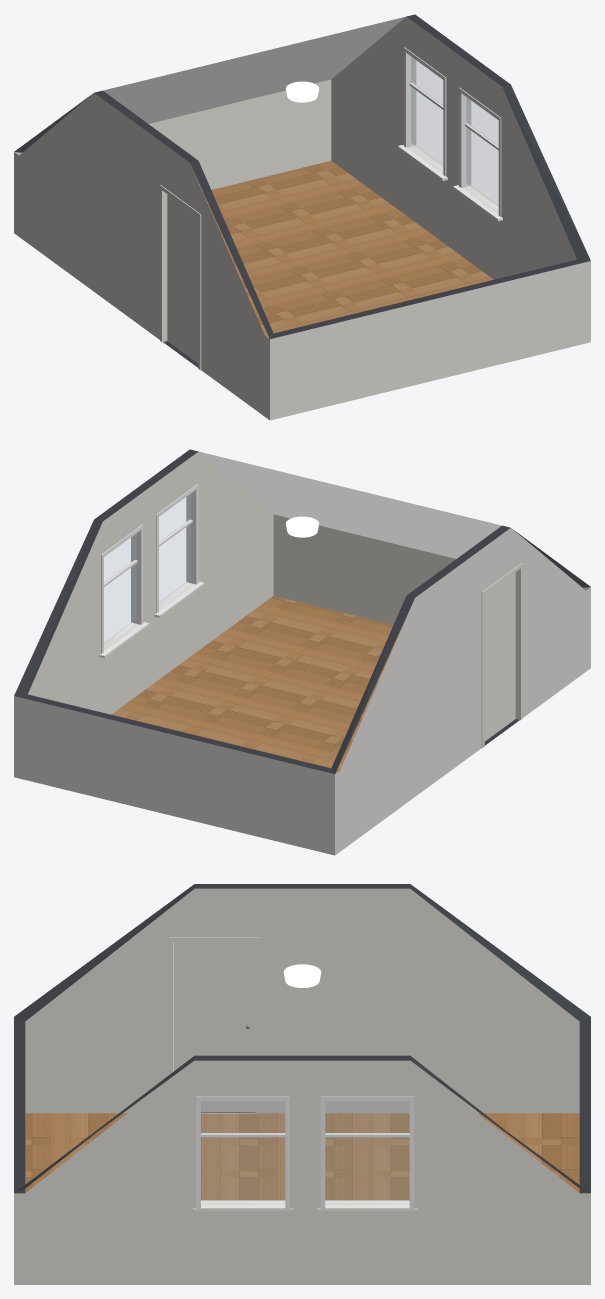
The model's file is My attic room.glb.
3 renders of one model, top to bottom at view 1: azimuth 30°, elevation 25°; view 2: azimuth 150°, elevation 25°; view 3: azimuth 270°, elevation 25°, orthographic. The views are drawn at different scales.
Size of the model in its own units: 4.44 by 2.62 by 6.11.
15 materials, 1 textured.
